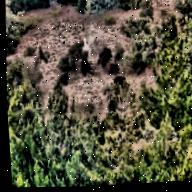boar: (55, 63, 74, 92), (72, 57, 94, 78), (109, 71, 127, 90), (104, 57, 121, 75), (95, 46, 113, 59)
